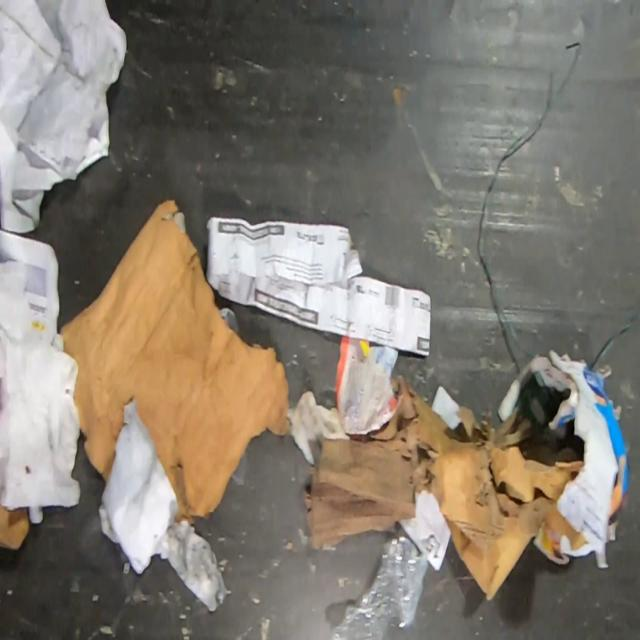cardboard: (304, 348, 630, 601), (59, 198, 291, 524), (0, 503, 30, 550)
rigid_plastic: (329, 535, 429, 640)
soft_plastic: (160, 500, 232, 611)
